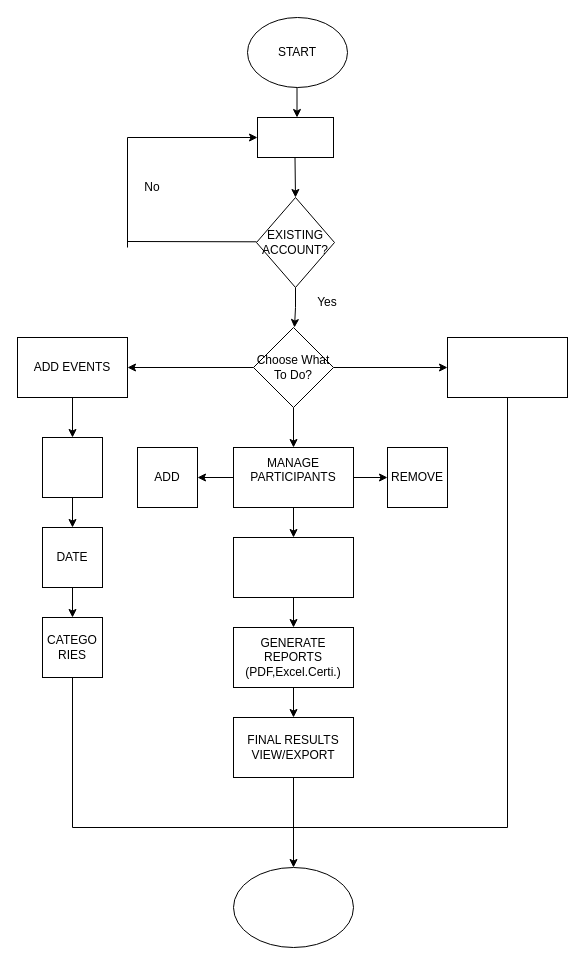
The diagram is 585 pixels wide and 965 high, and some of its shapes have lost their labels. Each missing label, with the centre of its shape:
"ASSIGN JUDGES TO EVENTS" belongs at pixel 507 367.
"LOGIN" belongs at pixel 295 137.
"NAME" belongs at pixel 72 467.
"SET CRITERIA" belongs at pixel 293 567.
"STOP" belongs at pixel 293 907.
